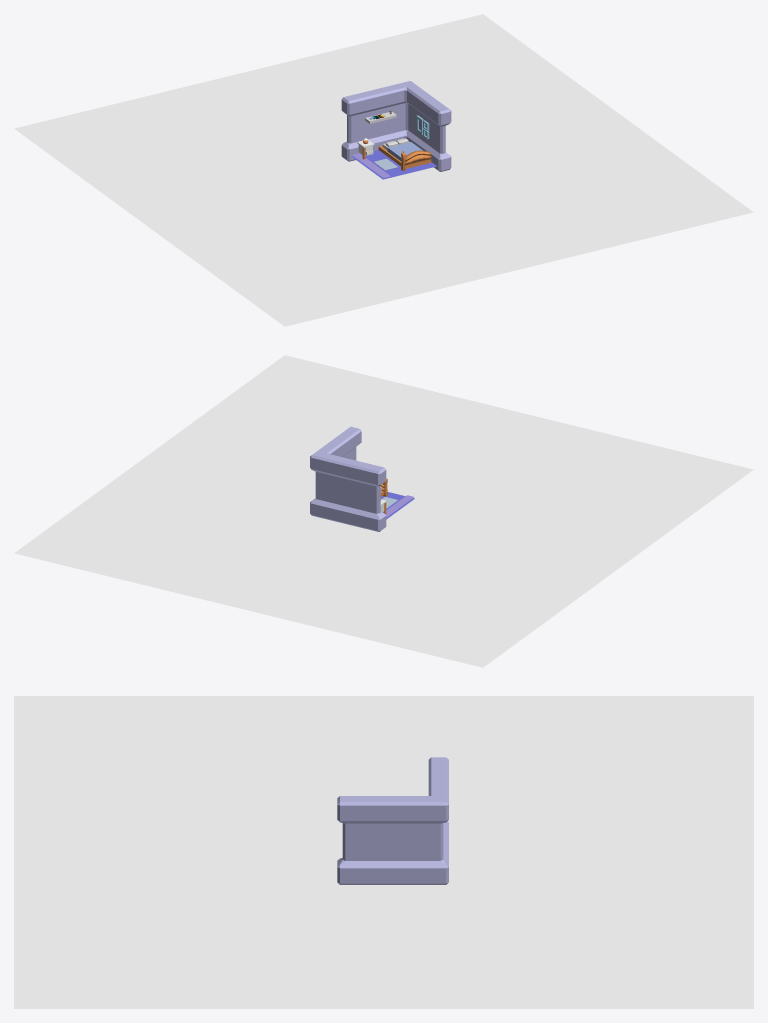
The picture shows the model from 3 angles, top to bottom: view 1: azimuth 30°, elevation 25°; view 2: azimuth 150°, elevation 25°; view 3: azimuth 270°, elevation 25°; orthographic projection. The views are drawn at different scales.
Visible parts, largest first — view 1: Plane012, Cube, Plane; view 2: Plane012, Cube; view 3: Plane012, Cube.
Part boxes in pixels (bbox=[...]): Plane012: bbox=[14, 14, 753, 326]; Cube: bbox=[341, 81, 451, 171]; Plane: bbox=[352, 150, 436, 179]; Plane012: bbox=[14, 355, 753, 667]; Cube: bbox=[310, 426, 386, 531]; Plane012: bbox=[14, 696, 753, 1008]; Cube: bbox=[337, 757, 448, 884].
Size of the model in its own units: 16.18 by 2.01 by 16.18.
